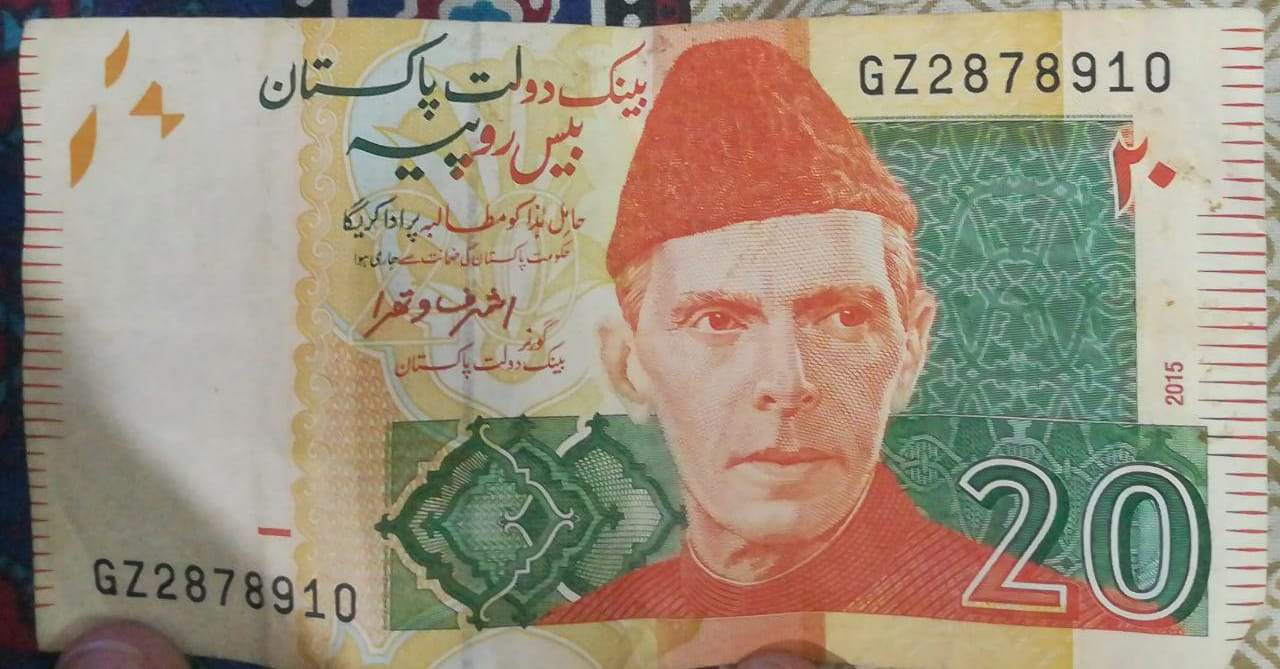20 rupee: (11, 15, 1280, 669)
